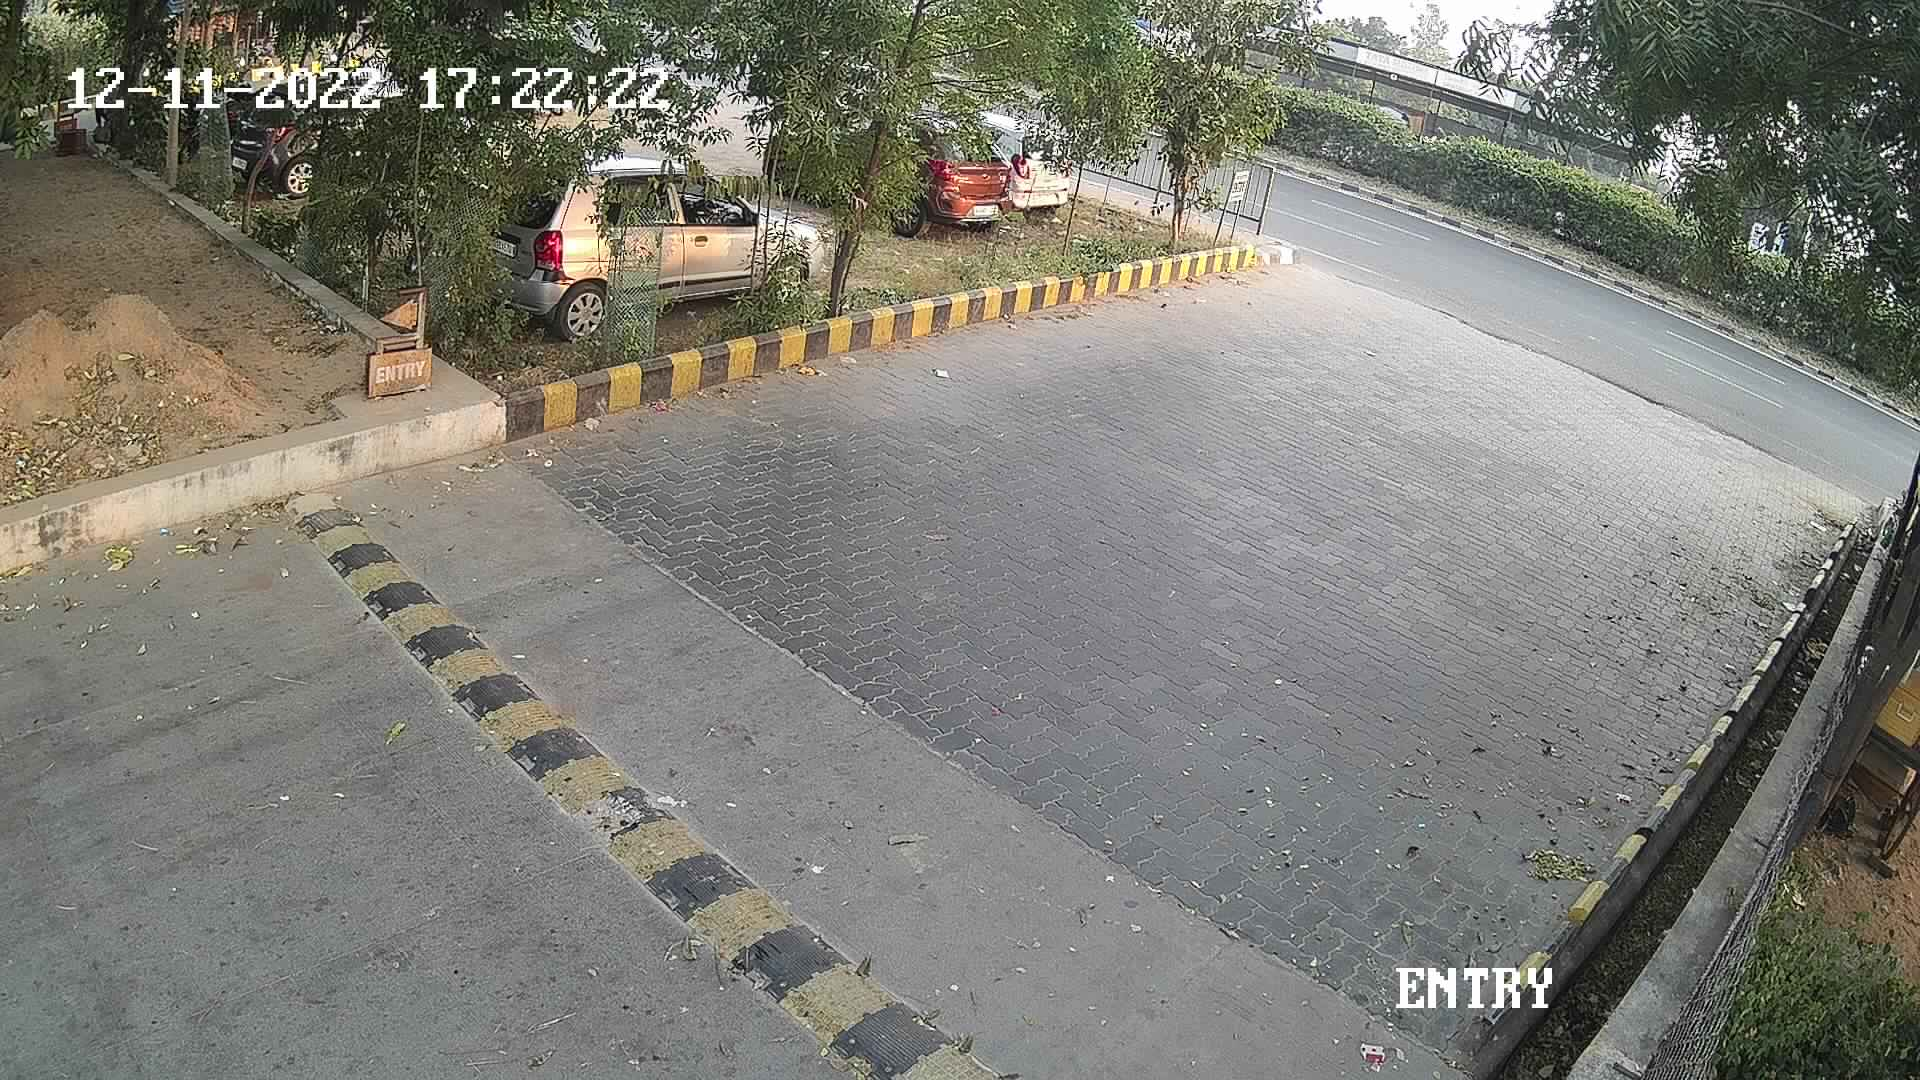Car: (463, 138, 829, 349), (860, 104, 1019, 241), (968, 99, 1079, 219)
